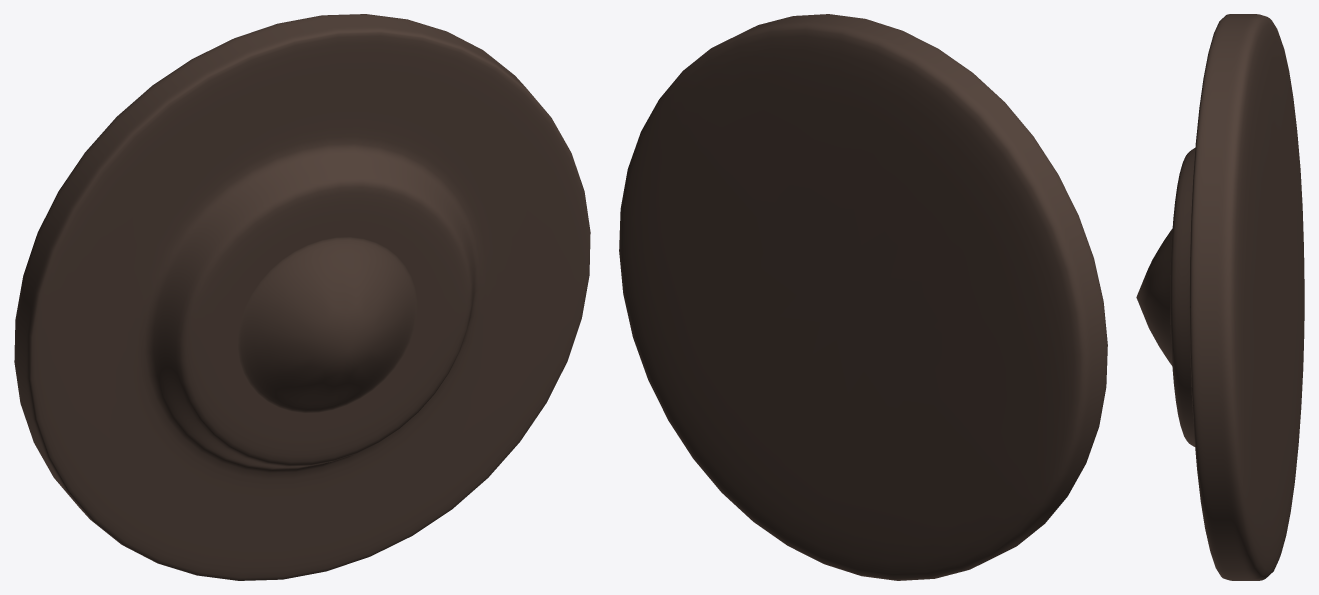
Rendered from Shield.fbx.
3 views of the same model, side by side, from view 1: azimuth 30°, elevation 25°; view 2: azimuth 150°, elevation 25°; view 3: azimuth 270°, elevation 25° (orthographic). The views are drawn at different scales.
Parts seen in each view (by area): view 1: pCylinder4; view 2: pCylinder4; view 3: pCylinder4.
Part boxes in pixels (left/top/right/bottom): pCylinder4: left=14, top=14, right=590, bottom=580; pCylinder4: left=619, top=14, right=1107, bottom=580; pCylinder4: left=1136, top=14, right=1304, bottom=580.
Bounding box in the file's own units: 71.7 × 71.87 × 21.35.
